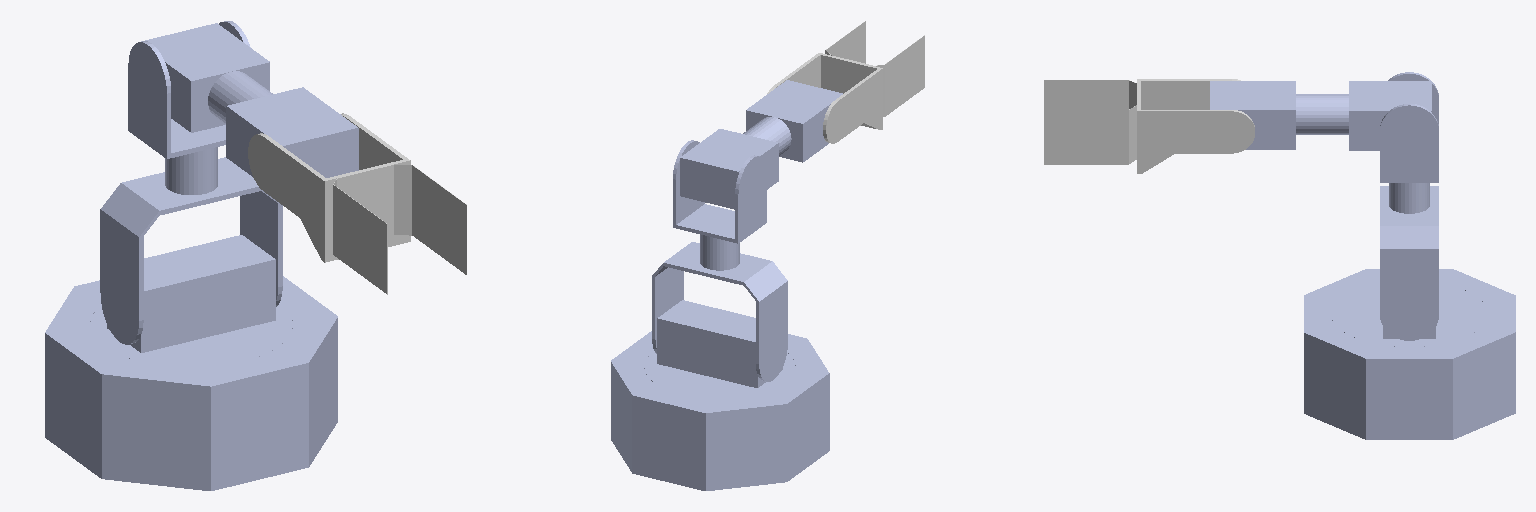
URDF robot description (robot_arm_urdf):
<?xml version="1.0" encoding="utf-8"?>
<!-- This URDF was automatically created by SolidWorks to URDF Exporter! Originally created by [author] ([email redacted]) 
     Commit Version: 1.6.0-4-g7f85cfe  Build Version: 1.6.7995.38578
     For more information, please see http://wiki.ros.org/sw_urdf_exporter -->
<robot
  name="robot_arm_urdf">

  <!--LINK DESCRIPTIONS-->
  <!-- The Base Link -->
  <link name="base_link">
    <inertial>
      <origin
        xyz="1.9255E-16 1.0408E-17 0.024"
        rpy="0 0 0" />
      <mass
        value="0.24406" />
      <inertia
        ixx="0.0003634"
        ixy="-1.7889E-18"
        ixz="-5.3921E-22"
        iyy="0.0003634"
        iyz="1.8719E-21"
        izz="0.00063308" />
    </inertial>
    <visual>
      <origin
        xyz="0 0 0"
        rpy="0 0 0" />
      <geometry>
        <mesh
          filename="package://robot_arm_urdf/meshes/base_link.STL" />
      </geometry>
      <material
        name="">
        <color
          rgba="0.79216 0.81961 0.93333 1" />
      </material>
    </visual>
    <collision>
      <origin
        xyz="0 0 0"
        rpy="0 0 0" />
      <geometry>
        <mesh
          filename="package://robot_arm_urdf/meshes/base_link.STL" />
      </geometry>
    </collision>
  </link>

  <!-- L1 Link-->
  <link name="L1">
    <inertial>
      <origin
        xyz="2.7582E-16 -6.245E-16 0.02969"
        rpy="0 0 0" />
      <mass
        value="0.31528" />
      <inertia
        ixx="0.00023458"
        ixy="6.7763E-21"
        ixz="-5.4289E-21"
        iyy="0.00024605"
        iyz="-2.4008E-21"
        izz="0.0002559" />
    </inertial>
    <visual>
      <origin
        xyz="0 0 0"
        rpy="0 0 0" />
      <geometry>
        <mesh
          filename="package://robot_arm_urdf/meshes/L1.STL" />
      </geometry>
      <material
        name="">
        <color
          rgba="0.79216 0.81961 0.93333 1" />
      </material>
    </visual>
    <collision>
      <origin
        xyz="0 0 0"
        rpy="0 0 0" />
      <geometry>
        <mesh
          filename="package://robot_arm_urdf/meshes/L1.STL" />
      </geometry>
    </collision>
  </link>

  <!--Link L2-->
  <link name="L2">
    <inertial>
      <origin
        xyz="-0.034331 -2.3717E-10 0.053197"
        rpy="0 0 0" />
      <mass
        value="0.035545" />
      <inertia
        ixx="1.1333E-05"
        ixy="-9.0422E-14"
        ixz="-7.5856E-08"
        iyy="2.563E-05"
        iyz="1.9783E-13"
        izz="1.85E-05" />
    </inertial>
    <visual>
      <origin
        xyz="0 0 0"
        rpy="0 0 0" />
      <geometry>
        <mesh
          filename="package://robot_arm_urdf/meshes/L2.STL" />
      </geometry>
      <material
        name="">
        <color
          rgba="0.79216 0.81961 0.93333 1" />
      </material>
    </visual>
    <collision>
      <origin
        xyz="0 0 0"
        rpy="0 0 0" />
      <geometry>
        <mesh
          filename="package://robot_arm_urdf/meshes/L2.STL" />
      </geometry>
    </collision>
  </link>

  <!--Link L3-->
  <link name="L3">
    <inertial>
      <origin
        xyz="-0.0211 -0.047034 0.00011863"
        rpy="0 0 0" />
      <mass
        value="0.084275" />
      <inertia
        ixx="1.7247E-05"
        ixy="0"
        ixz="6.2874E-21"
        iyy="1.1839E-05"
        iyz="9.7142E-09"
        izz="2.1277E-05" />
    </inertial>
    <visual>
      <origin
        xyz="0 0 0"
        rpy="0 0 0" />
      <geometry>
        <mesh
          filename="package://robot_arm_urdf/meshes/L3.STL" />
      </geometry>
      <material
        name="">
        <color
          rgba="0.79216 0.81961 0.93333 1" />
      </material>
    </visual>
    <collision>
      <origin
        xyz="0 0 0"
        rpy="0 0 0" />
      <geometry>
        <mesh
          filename="package://robot_arm_urdf/meshes/L3.STL" />
      </geometry>
    </collision>
  </link>

  <!--Link L4-->
  <link  name="L4">
    <inertial>
      <origin
        xyz="-0.020617 -0.02628 -0.0022471"
        rpy="0 0 0" />
      <mass
        value="0.014348" />
      <inertia
        ixx="7.6235E-06"
        ixy="4.5643E-09"
        ixz="9.14E-19"
        iyy="5.2517E-06"
        iyz="-7.1145E-07"
        izz="1.0725E-05" />
    </inertial>
    <visual>
      <origin
        xyz="0 0 0"
        rpy="0 0 0" />
      <geometry>
        <mesh
          filename="package://robot_arm_urdf/meshes/L4.STL" />
      </geometry>
      <material
        name="">
        <color
          rgba="0.89804 0.89804 0.89804 1" />
      </material>
    </visual>
    <collision>
      <origin
        xyz="0 0 0"
        rpy="0 0 0" />
      <geometry>
        <mesh
          filename="package://robot_arm_urdf/meshes/L4.STL" />
      </geometry>
    </collision>
  </link>


  <!--Link extrusion-->
  <link  name="extrusion">
    <inertial>
      <origin
        xyz="-0.020617 -0.02628 -0.0022471"
        rpy="0 0 0" />
      <mass
        value="0.014348" />
      <inertia
        ixx="7.6235E-06"
        ixy="4.5643E-09"
        ixz="9.14E-19"
        iyy="5.2517E-06"
        iyz="-7.1145E-07"
        izz="1.0725E-05" />
    </inertial>
    <visual>
      <origin
        xyz="0 0 0"
        rpy="0 0 0" />
      <geometry>
        <mesh
          filename="package://robot_arm_urdf/meshes/item_37003_profile-5-20x20-natural-_350_high.STL" scale="0.001 0.001 0.001"/>
      </geometry>
      <material
        name="">
        <color
          rgba="0.89804 0.89804 0.89804 1" />
      </material>
    </visual>
    <collision>
      <origin
        xyz="0 0 0"
        rpy="0 0 0" />
      <geometry>
        <mesh
          filename="package://robot_arm_urdf/meshes/item_37003_profile-5-20x20-natural-_350_high.STL" scale="0.001 0.001 0.001"/>
      </geometry>
    </collision>
  </link>

  <!--Chess Board-->
  <link  name="Chess_board">
     <inertial>
      <origin
        xyz="0 0 0"
        rpy="0 0 0" />
      <mass
        value="0.1" />
      <inertia
        ixx="7.6235E-06"
        ixy="4.5643E-09"
        ixz="9.14E-19"
        iyy="5.2517E-06"
        iyz="-7.1145E-07"
        izz="1.0725E-05" />
    </inertial>
    <visual>
      <origin
        xyz="0 0 0"
        rpy="0 0 0" />
      <geometry>
        <mesh
          filename="package://robot_arm_urdf/meshes/Body1.STL" scale="0.001 0.001 0.001"/>
      </geometry>
      <material
        name="">
        <color
          rgba="0.439 0.878 0.871 0" />
      </material>
    </visual>
    <collision>
      <origin
        xyz="0 0 0"
        rpy="0 0 0" />
      <geometry>
        <mesh
          filename="package://robot_arm_urdf/meshes/Body1.STL" scale="0.001 0.001 0.001" />
      </geometry>
    </collision>
  </link>



  <!--Chess and Cam-->
  <link  name="Chess_and_cam">
     <inertial>
      <origin
        xyz="0 0 0"
        rpy="0 0 0" />
      <mass
        value="0.1" />
      <inertia
        ixx="7.6235E-06"
        ixy="4.5643E-09"
        ixz="9.14E-19"
        iyy="5.2517E-06"
        iyz="-7.1145E-07"
        izz="1.0725E-05" />
    </inertial>
    <visual>
      <origin
        xyz="0 0 0"
        rpy="0 0 0" />
      <geometry>
        <mesh
          filename="package://robot_arm_urdf/meshes/chessandcam.STL" scale="0.001 0.001 0.001"/>
      </geometry>
      <material
        name="">
        <color
          rgba="0.439 0.878 0.871 0" />
      </material>
    </visual>
    <collision>
      <origin
        xyz="0 0 0"
        rpy="0 0 0" />
      <geometry>
        <mesh
          filename="package://robot_arm_urdf/meshes/chessandcam.STL" scale="0.001 0.001 0.001" />
      </geometry>
    </collision>
  </link>


  <!--Robot Frame-->
  <link  name="Robot_frame">
     <inertial>
      <origin
        xyz="0 0 0"
        rpy="0 0 0" />
      <mass
        value="0.1" />
      <inertia
        ixx="7.6235E-06"
        ixy="4.5643E-09"
        ixz="9.14E-19"
        iyy="5.2517E-06"
        iyz="-7.1145E-07"
        izz="1.0725E-05" />
    </inertial>
    <visual>
      <origin
        xyz="0 0 0"
        rpy="0 0 0" />
      <geometry>
        <mesh
          filename="package://robot_arm_urdf/meshes/robot_frame.STL" scale="0.001 0.001 0.001"/>
      </geometry>
      <material
        name="">
        <color
          rgba="0.439 0.878 0.871 0" />
      </material>
    </visual>
    <collision>
      <origin
        xyz="0 0 0"
        rpy="0 0 0" />
      <geometry>
        <mesh
          filename="package://robot_arm_urdf/meshes/robot_frame.STL" scale="0.001 0.001 0.001" />
      </geometry>
    </collision>
  </link>





  <!--JOINT DESCRIPTIONS-->
  <!--Joint J1-->
  <joint  name="J1"
    type="revolute">
    <origin
      xyz="0 0 0"
      rpy="0 0 0" />
    <parent
      link="base_link" />
    <child
      link="L1" />
    <axis
      xyz="0 0 1" />
    <limit
      lower="-1.309"
      upper="1.309"
      effort="300"
      velocity="3" />
  </joint>

  <!--Joint J2-->  
  <joint   name="J2"
    type="revolute">
    <origin
      xyz="0.034415 0 0.064"
      rpy="0 0 0" />
    <parent
      link="L1" />
    <child
      link="L2" />
    <axis
      xyz="-1 0 -0.00012534" />
    <limit
      lower="-0.2618"
      upper="1.3963"
      effort="300"
      velocity="3" />
  </joint>

  <!--Joint J3-->  
  <joint  name="J3"
    type="revolute">
    <origin
      xyz="-0.0133 0 0.101"
      rpy="0 0 0" />
    <parent
      link="L2" />
    <child
      link="L3" />
    <axis
      xyz="-1 0 0" />
    <limit
      lower="-2.3562"
      upper="0.5236"
      effort="300"
      velocity="3" />
  </joint>

  <!--Joint J4-->  
  <joint  name="J4"
    type="revolute">
    <origin
      xyz="-0.0005 -0.095 -0.00025"
      rpy="0 0 0" />
    <parent
      link="L3" />
    <child
      link="L4" />
    <axis
      xyz="1 0 0" />
    <limit
      lower="-1.5708"
      upper="1.74533"
      effort="300"
      velocity="3" />
  </joint>

  <!--Chess Board Joint Fixed-->
  <joint name="Fixed_board"
    type="fixed">
    <origin
      xyz="0 -0.1465 0"
      rpy="1.5707 0 0" />
    <parent link="base_link" />
    <child link="Chess_board" />
  </joint>


  <!--Chess Board-Camera and Arm Joint Fixed-->
  <joint name="Fixed_chess_cam_frame"
    type="fixed">
    <origin
      xyz="0 -0.1465 0"
      rpy="0 0 0" />
    <parent link="base_link" />
    <child link="Chess_and_cam" />
  </joint>


  <!--Chess Board-Camera and Extrusion Joint Fixed-->
  <joint name="Fixed_robot_frame"
    type="fixed">
    <origin
      xyz="0 0 0"
      rpy="0 0 0" />
    <parent link="Robot_frame" />
    <child link="base_link" />
  </joint>


  <!--Chess Board-Camera and Extrusion Joint Fixed-->
  <joint name="Fixed_extrusion_frame"
    type="fixed">
    <origin
      xyz="0.13 -0.1465 0.175"
      rpy="1.57 0 0" />
    <parent link="base_link" />
    <child link="extrusion" />
  </joint>


</robot>

--- What the picture shows (computed from the rendered views, not written in the file) ---
The picture shows the robot from 3 angles, left to right: view 1: azimuth 30°, elevation 25°; view 2: azimuth 150°, elevation 25°; view 3: azimuth 270°, elevation 25°; orthographic projection.
Model robot_arm_urdf with 9 links and 8 joints (4 revolute, 4 fixed), rooted at Robot_frame, posed all joints at 0.
Links seen in each view (by area): view 1: base_link, L2, L4, L1, L3; view 2: base_link, L2, L3, L1, L4; view 3: base_link, L4, L2, L3, L1.
Link boxes in pixels (x1,y1,x2,y2): base_link: (45, 276, 337, 490); L2: (100, 21, 282, 344); L4: (248, 113, 466, 294); L1: (90, 235, 292, 367); L3: (141, 23, 358, 177); base_link: (611, 331, 829, 490); L2: (652, 140, 787, 381); L3: (680, 80, 842, 209); L1: (644, 300, 795, 398); L4: (767, 21, 924, 143); base_link: (1304, 269, 1515, 439); L4: (1044, 79, 1254, 173); L2: (1380, 72, 1438, 340); L3: (1210, 81, 1431, 150); L1: (1331, 283, 1487, 346).
Size in the robot's own frame: 0.1135 by 0.2522 by 0.181 metres.
5 mesh visuals loaded from 9 distinct referenced files (5 binary STL); not drawn: 4 (reference not matched to a file when rendering).
